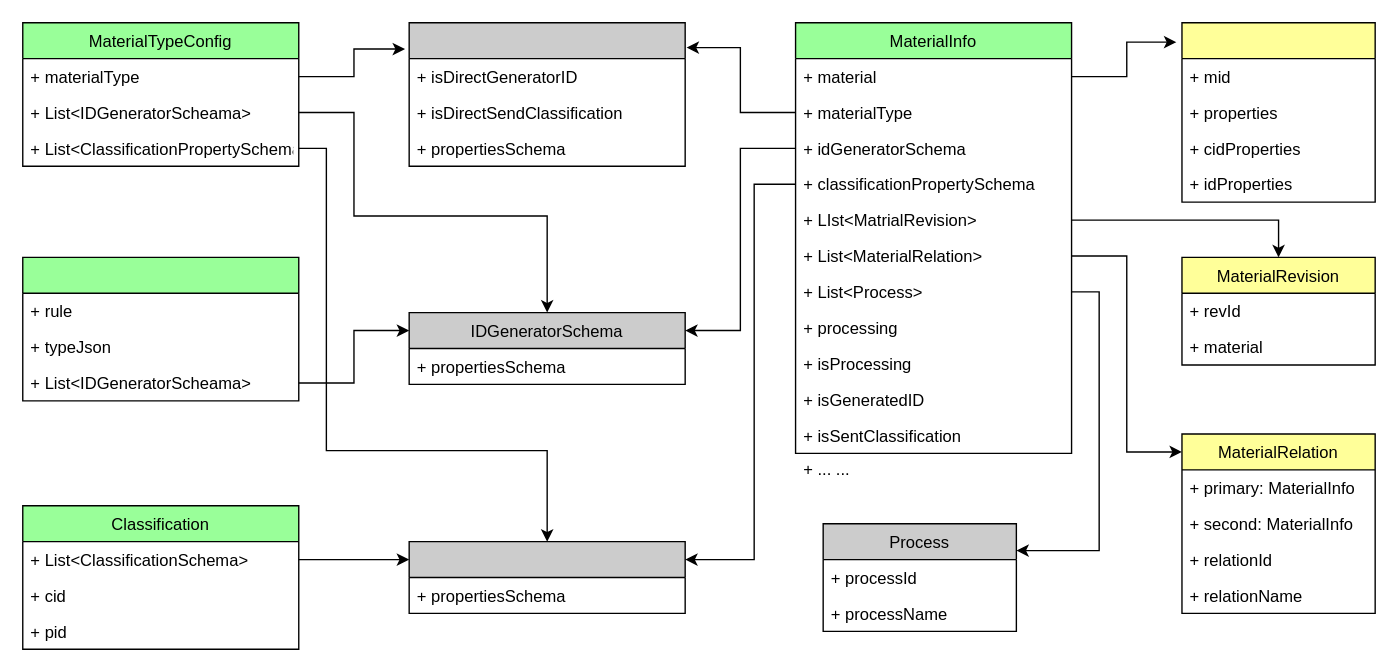
This 1398x672 diagram has some shape labels left out. Here are the shapes that lost their labels. From the top down, the box of each, then its label:
(408, 21, 685, 166): MaterialType
(1181, 21, 1375, 202): Material
(21, 256, 299, 401): IDGenerator
(408, 540, 685, 613): ClassificationPropertySchema
